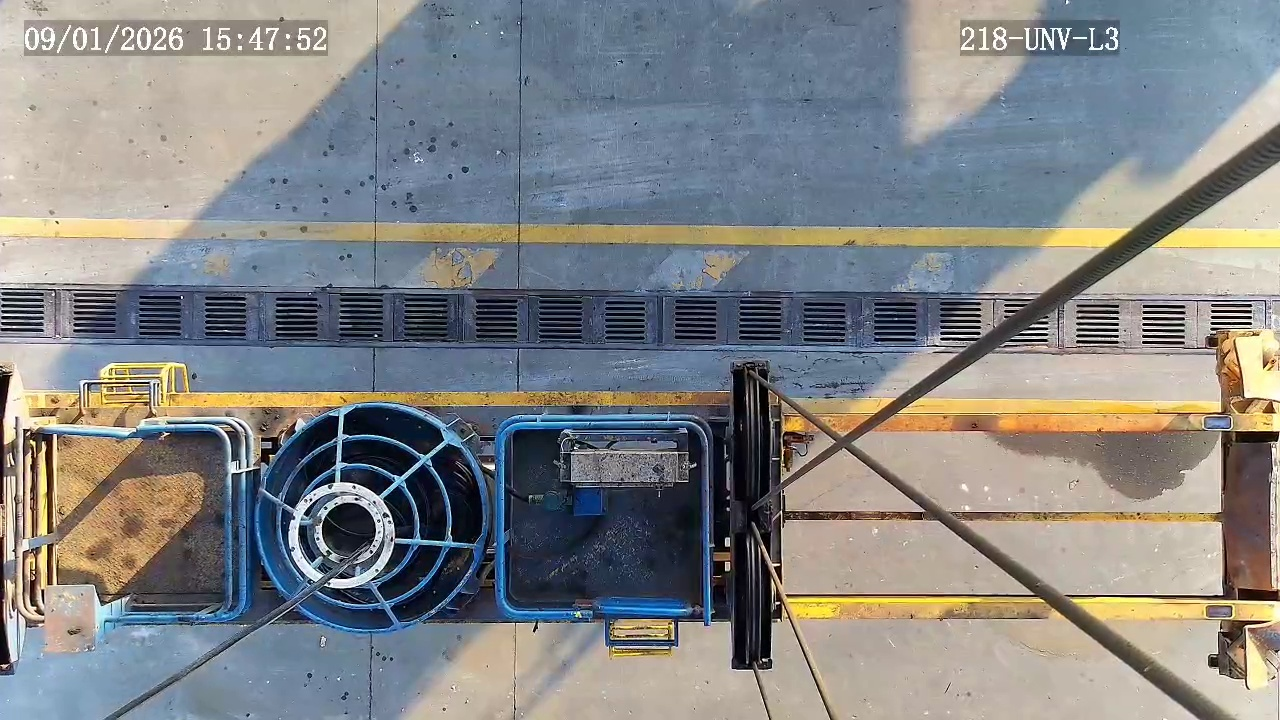right: (253, 403, 489, 633)
